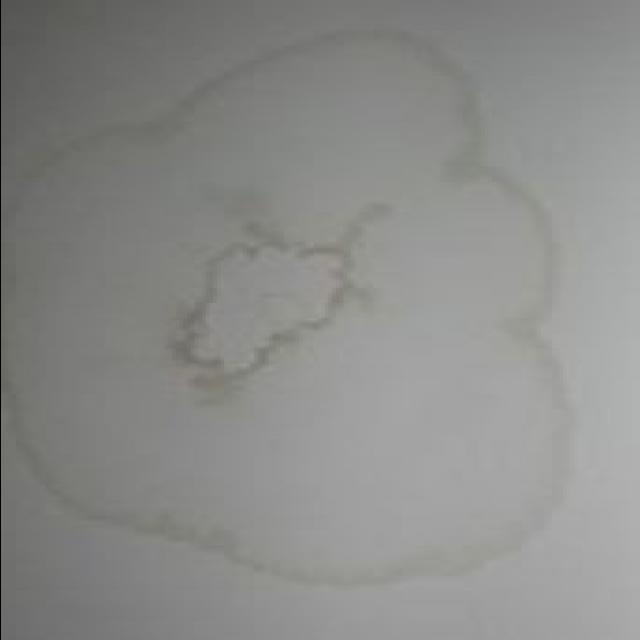leak: (10, 34, 584, 584)
